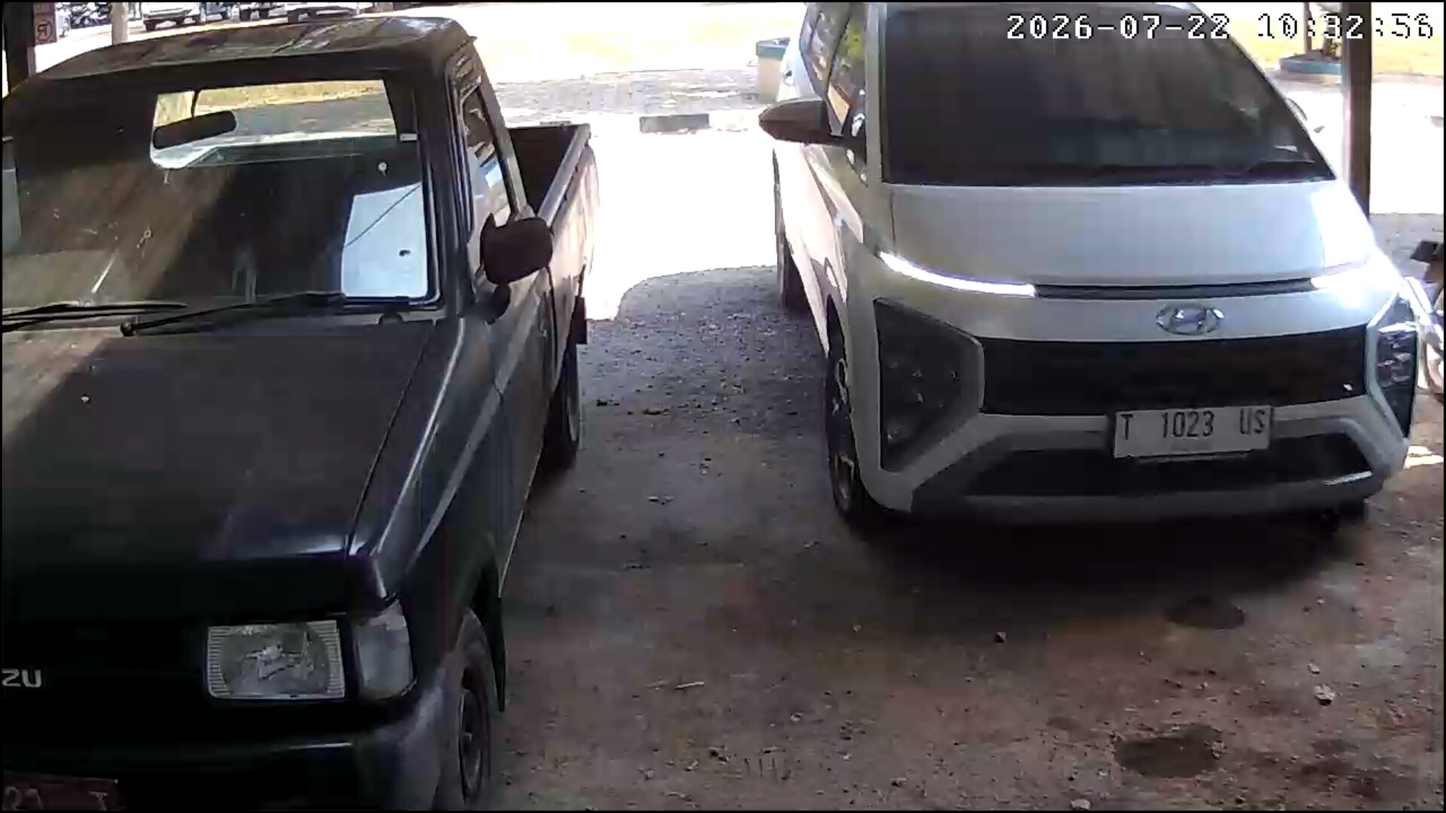plat nomor: (1112, 404, 1271, 460)
